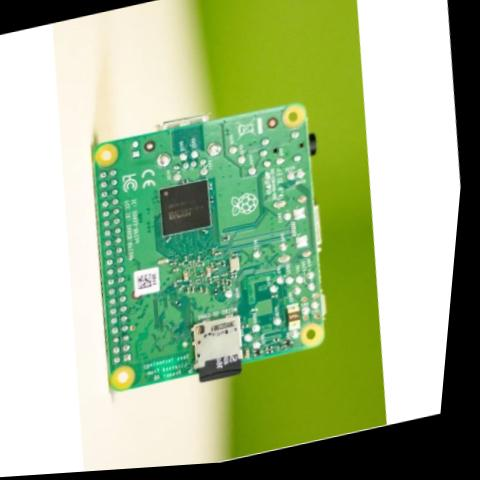Raspberry-Pi-3-Model-A-: (63, 83, 366, 415)
